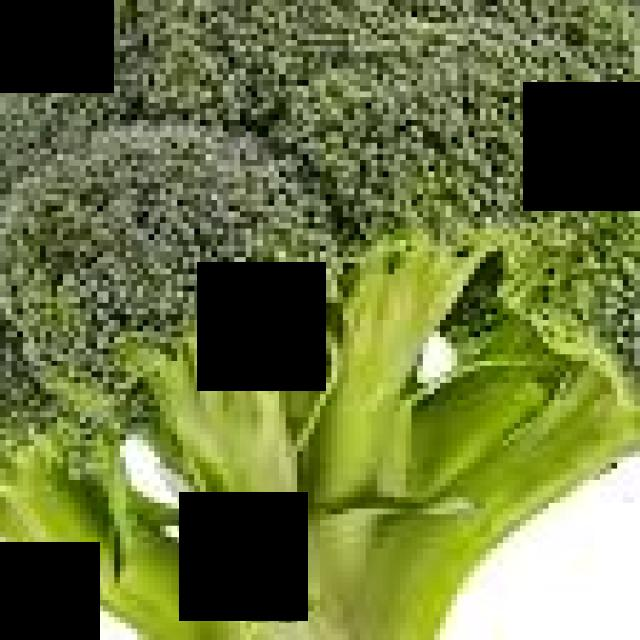broccoli: (0, 0, 640, 640)
